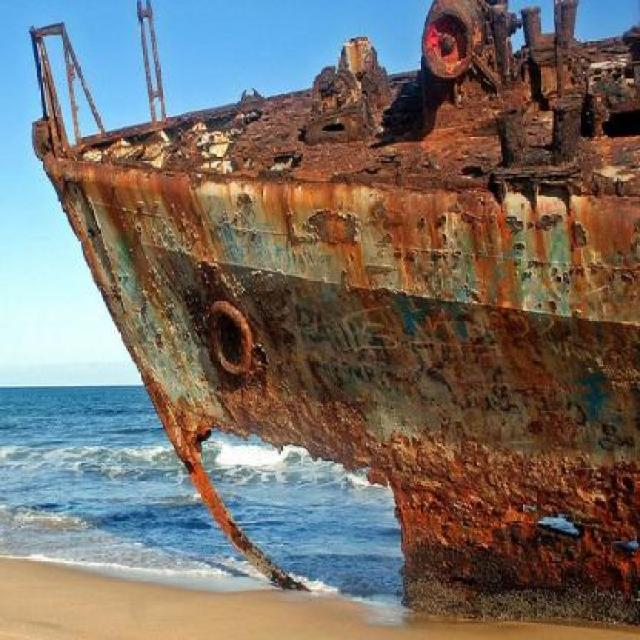corrosion: (31, 0, 640, 622)
